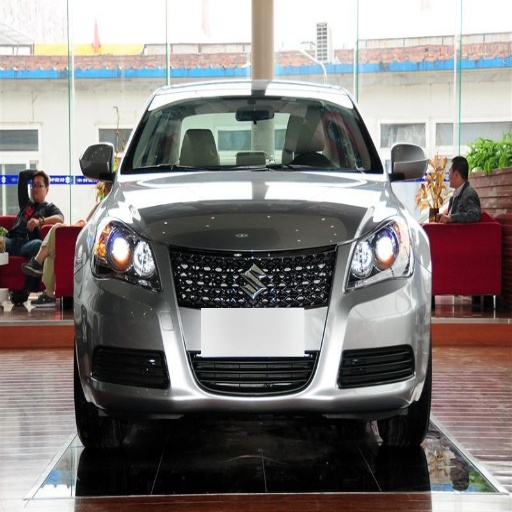front_bumper: (79, 240, 429, 418)
front_right_light: (90, 216, 160, 290)
hood: (111, 174, 397, 251)
left_mirror: (389, 144, 428, 182)
